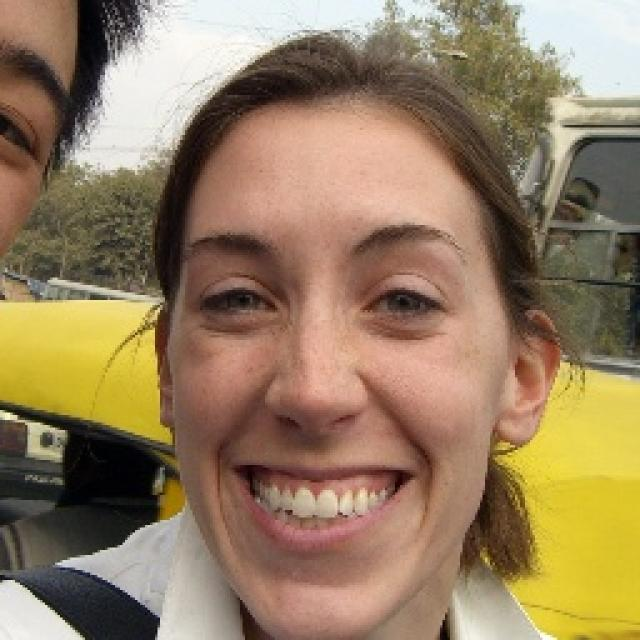earlobe: (492, 309, 560, 448), (152, 302, 176, 436)
